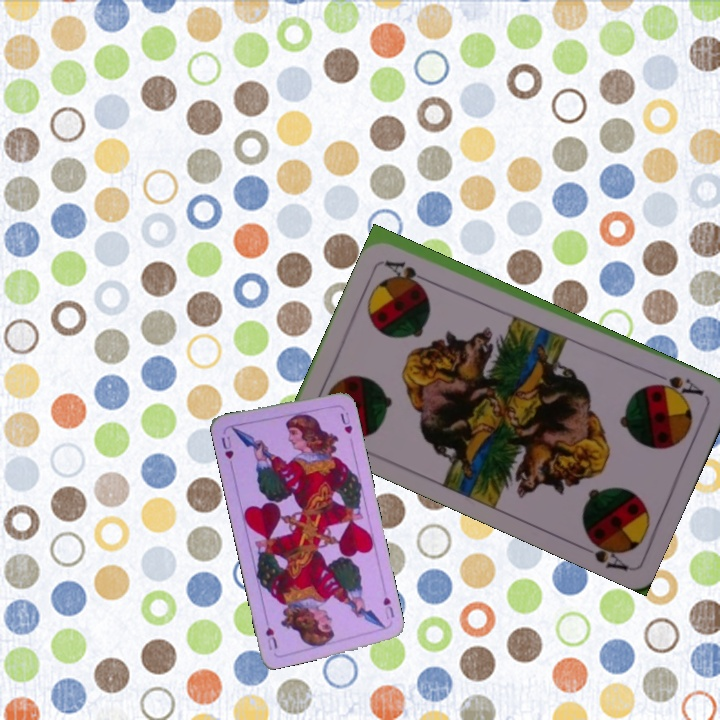HU: (217, 432, 236, 462), (379, 593, 397, 622)
SA: (649, 371, 707, 400)
